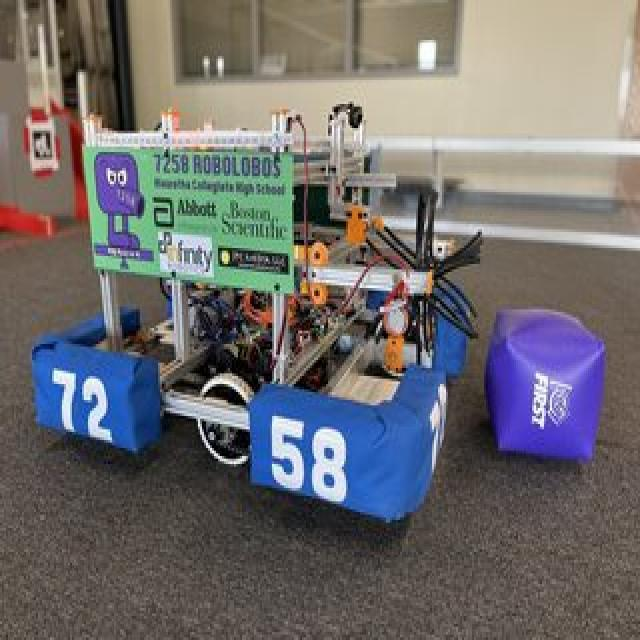robot: (33, 91, 481, 518)
